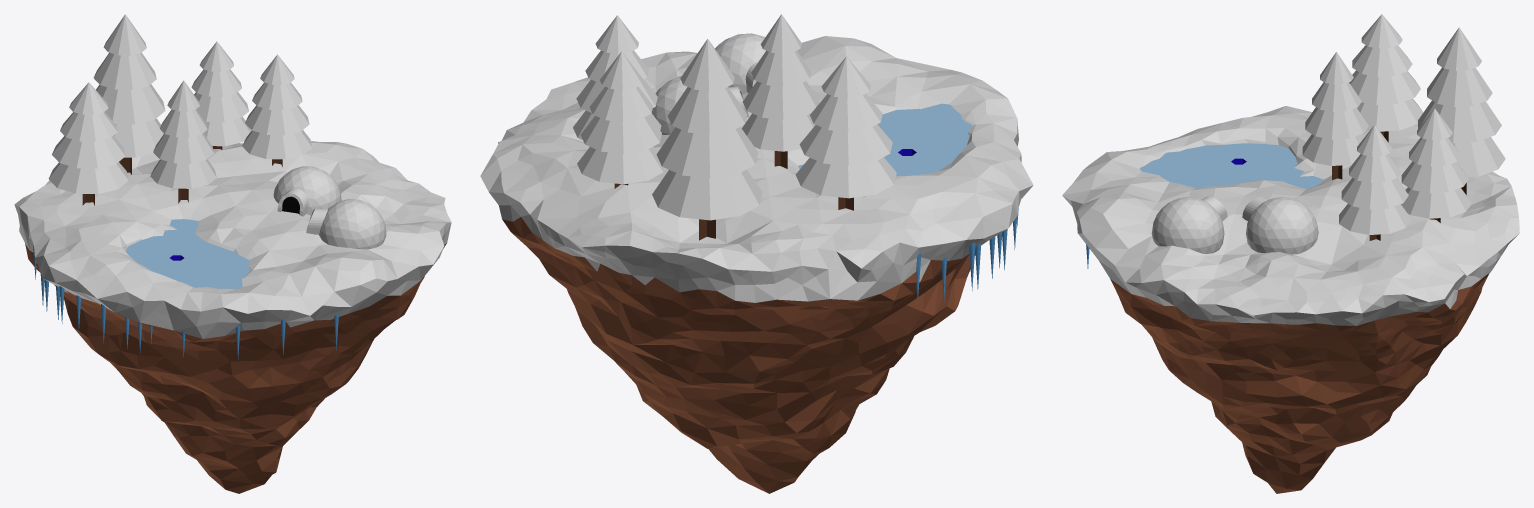
File: winter-island.glb
3 renders of one model, left to right at view 1: azimuth 30°, elevation 25°; view 2: azimuth 150°, elevation 25°; view 3: azimuth 270°, elevation 25°, orthographic. The views are drawn at different scales.
Parts seen in each view (by area): view 1: Cone, Cone.002_Cone.006, Cone.005_Cone.008, Plane.001_Plane.002, Cone.003, Cone.004_Cone.007, Cone.001_Cone.005, Icosphere, Icosphere.001, Cone.012_Cone.015; view 2: Cone, Cone.002_Cone.006, Cone.005_Cone.008, Cone.001_Cone.005, Cone.004_Cone.007, Plane.001_Plane.002, Cone.003, Icosphere, Cone.012_Cone.015, Icosphere.001; view 3: Cone, Cone.002_Cone.006, Plane.001_Plane.002, Cone.005_Cone.008, Cone.003, Cone.001_Cone.005, Cone.004_Cone.007, Icosphere.001, Icosphere.
Boxes of the visible parts, x1,y1,x2,y2 form: Cone: [14, 141, 451, 493]; Cone.002_Cone.006: [93, 14, 165, 174]; Cone.005_Cone.008: [48, 82, 128, 205]; Plane.001_Plane.002: [126, 219, 250, 289]; Cone.003: [242, 54, 312, 166]; Cone.004_Cone.007: [150, 80, 216, 203]; Cone.001_Cone.005: [191, 41, 250, 149]; Icosphere: [306, 199, 386, 249]; Icosphere.001: [273, 166, 341, 216]; Cone.012_Cone.015: [33, 244, 338, 359]; Cone: [480, 36, 1033, 493]; Cone.002_Cone.006: [652, 39, 762, 240]; Cone.005_Cone.008: [795, 56, 896, 210]; Cone.001_Cone.005: [577, 51, 663, 188]; Cone.004_Cone.007: [742, 14, 819, 168]; Plane.001_Plane.002: [798, 103, 972, 176]; Cone.003: [573, 15, 661, 139]; Icosphere: [715, 33, 765, 94]; Cone.012_Cone.015: [916, 208, 1018, 303]; Icosphere.001: [652, 76, 748, 134]; Cone: [1062, 106, 1519, 493]; Cone.002_Cone.006: [1418, 27, 1505, 194]; Plane.001_Plane.002: [1140, 143, 1323, 189]; Cone.005_Cone.008: [1349, 14, 1423, 142]; Cone.003: [1339, 124, 1411, 240]; Cone.001_Cone.005: [1401, 108, 1471, 222]; Cone.004_Cone.007: [1302, 52, 1368, 179]; Icosphere.001: [1242, 196, 1318, 254]; Icosphere: [1151, 196, 1227, 253].
Bounding box in the file's own units: 12.74 × 13.5 × 12.58.
